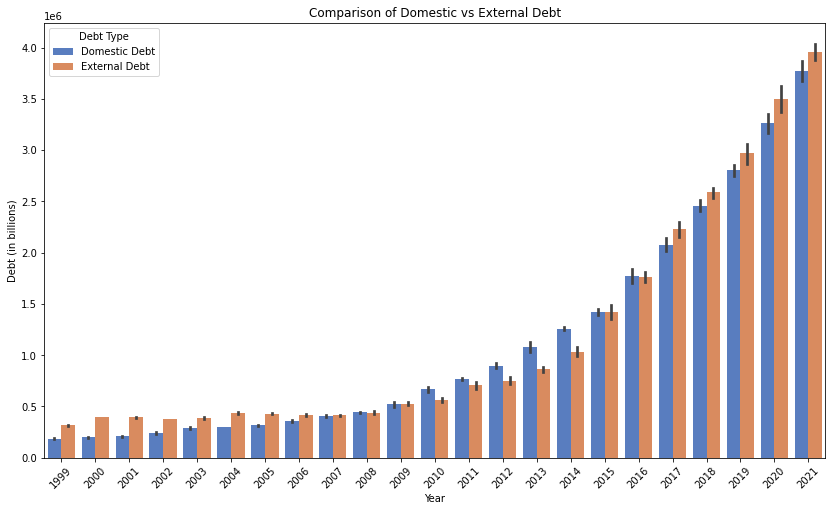

The dashboard page shown, as its layout file describes it:
{"tool":"powerbi","page":{"name":"Page 3","canvas":[1280,720],"ordinal":2},"visuals":[{"type":"lineChart","fields":{"Y":["Sum(External_debt.External Debt)","Sum(Domestic_debt.Domestic Debt)","Sum(Total_debt.Total)"],"Category":["Date.Year"]},"box":[9.8,0,1270.5,720.2],"z":0}]}

Visuals, with their boxes on the page's 1280x720 design canvas (x1, y1, x2, y2). These are canvas units, not pixel positions in the 832x511 screenshot, which may show the page scaled, cropped or inside an application window:
lineChart - Sum(External_debt.External Debt) x Sum(Domestic_debt.Domestic Debt): pyautogui.locateOnScreen(10, 0, 1280, 720)
